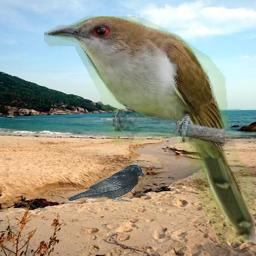Crow: (67, 164, 145, 202)
Cuckoo: (44, 16, 255, 242)
